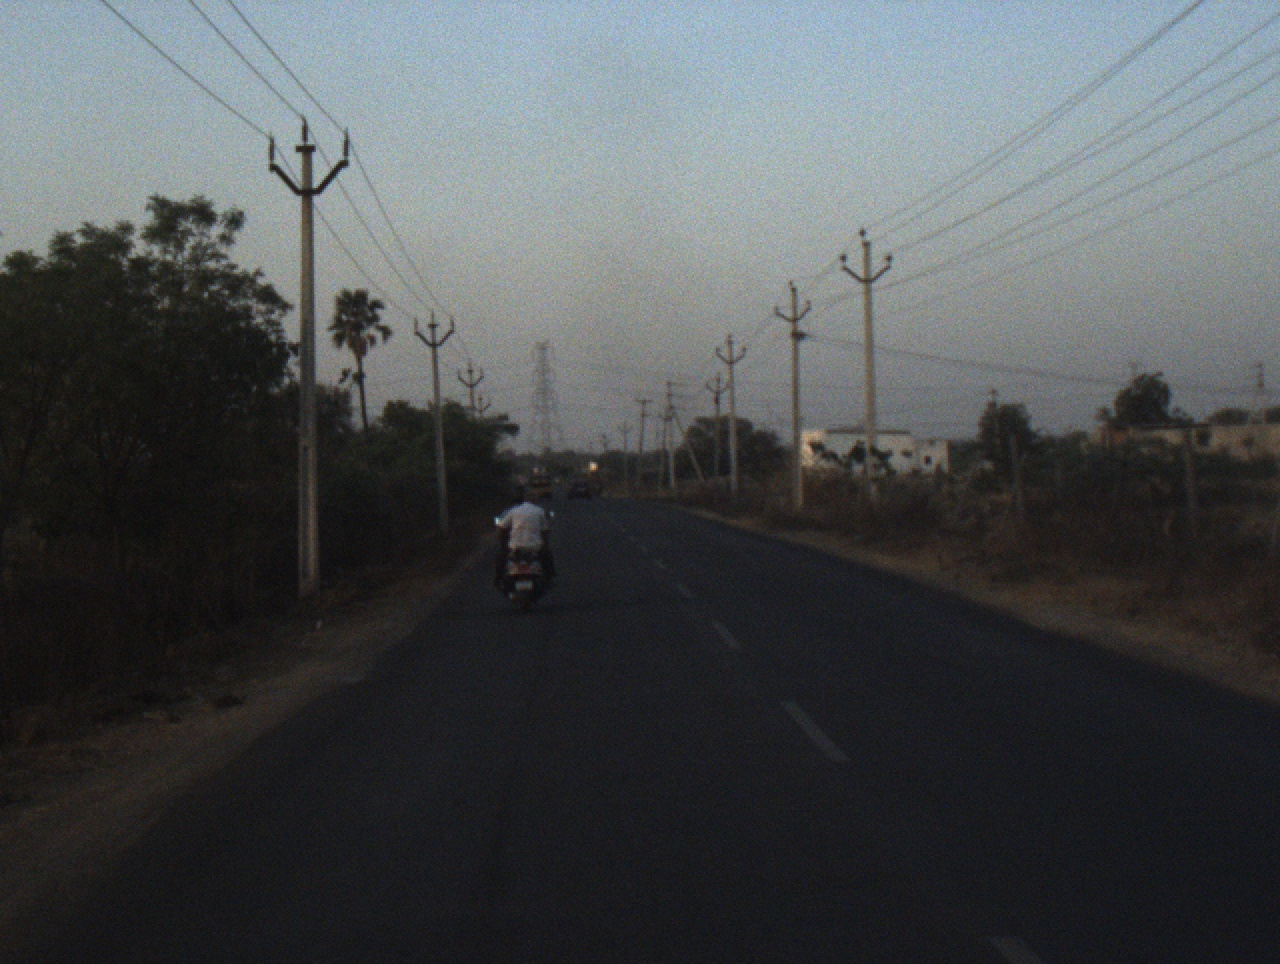autorickshaw: (525, 469, 553, 503)
car: (562, 474, 596, 505)
motorcycle: (490, 509, 562, 610)
rider: (490, 491, 559, 594)
